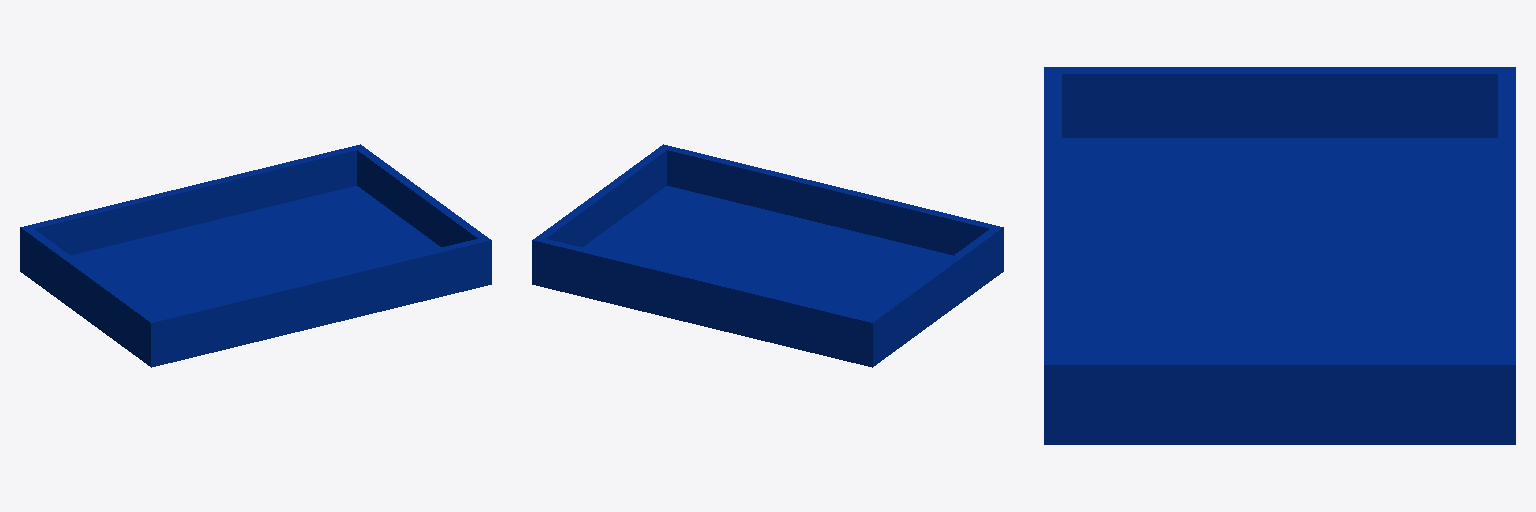
URDF robot description (pallet):
<?xml version='1.0' encoding='utf-8'?>
<!--
  Blue plastic pallet, built from box primitives so it can be converted to USD
  with the Isaac Sim URDF importer.

  All units are SI (m, kg).

  Outer envelope : 0.600 (X, length) x 0.400 (Y, breadth) x 0.075 (Z, height)
  Border / wall  : 0.015 wide, 0.075 tall (full height), around the full
                   perimeter, standing on the ground
  Floor plate    : 0.570 x 0.370 x 0.015, closing the BOTTOM of the frame
                   (z 0.000 .. 0.015). Loads sit on it, at z = 0.015 - the
                   "ground clearance of 0.015 inside".
  Inner cavity   : 0.570 x 0.370 x 0.060, open at the top. The pallet is an
                   open-topped box: closed underneath, walls all round.

  Frame convention: link origin is at the centre of the footprint, on the
  ground plane (z = 0 is the underside of the pallet).
-->
<robot name="pallet">

  <material name="pallet_blue">
    <color rgba="0.04 0.24 0.62 1.0" />
  </material>

  <link name="pallet_base_link">

    <!-- 5 kg plastic pallet (935 kg/m^3 over the solid volume of deck + border,
         i.e. HDPE). Inertia integrated over those five boxes about the CoM,
         which the floor plate pulls down to z = 0.01975. -->
    <inertial>
      <origin xyz="0 0 0.01975" rpy="0 0 0" />
      <mass value="5.0" />
      <inertia ixx="0.0914" ixy="0.0" ixz="0.0"
               iyy="0.1868" iyz="0.0"
               izz="0.2740" />
    </inertial>

    <!-- ==== floor plate (z: 0.000 .. 0.015), closes the bottom, load face ==== -->
    <visual name="pallet_deck_visual">
      <origin xyz="0 0 0.0075" rpy="0 0 0" />
      <geometry>
        <box size="0.570 0.370 0.015" />
      </geometry>
      <material name="pallet_blue" />
    </visual>
    <collision name="pallet_deck_collision">
      <origin xyz="0 0 0.0075" rpy="0 0 0" />
      <geometry>
        <box size="0.570 0.370 0.015" />
      </geometry>
    </collision>

    <!-- ========= border +X (z: 0.000 .. 0.075, full breadth) ========= -->
    <visual name="pallet_wall_xpos_visual">
      <origin xyz="0.2925 0 0.0375" rpy="0 0 0" />
      <geometry>
        <box size="0.015 0.400 0.075" />
      </geometry>
      <material name="pallet_blue" />
    </visual>
    <collision name="pallet_wall_xpos_collision">
      <origin xyz="0.2925 0 0.0375" rpy="0 0 0" />
      <geometry>
        <box size="0.015 0.400 0.075" />
      </geometry>
    </collision>

    <!-- ===================== wall -X ===================== -->
    <visual name="pallet_wall_xneg_visual">
      <origin xyz="-0.2925 0 0.0375" rpy="0 0 0" />
      <geometry>
        <box size="0.015 0.400 0.075" />
      </geometry>
      <material name="pallet_blue" />
    </visual>
    <collision name="pallet_wall_xneg_collision">
      <origin xyz="-0.2925 0 0.0375" rpy="0 0 0" />
      <geometry>
        <box size="0.015 0.400 0.075" />
      </geometry>
    </collision>

    <!-- ====== border +Y (fits between the two X borders: 0.570) ====== -->
    <visual name="pallet_wall_ypos_visual">
      <origin xyz="0 0.1925 0.0375" rpy="0 0 0" />
      <geometry>
        <box size="0.570 0.015 0.075" />
      </geometry>
      <material name="pallet_blue" />
    </visual>
    <collision name="pallet_wall_ypos_collision">
      <origin xyz="0 0.1925 0.0375" rpy="0 0 0" />
      <geometry>
        <box size="0.570 0.015 0.075" />
      </geometry>
    </collision>

    <!-- ===================== wall -Y ===================== -->
    <visual name="pallet_wall_yneg_visual">
      <origin xyz="0 -0.1925 0.0375" rpy="0 0 0" />
      <geometry>
        <box size="0.570 0.015 0.075" />
      </geometry>
      <material name="pallet_blue" />
    </visual>
    <collision name="pallet_wall_yneg_collision">
      <origin xyz="0 -0.1925 0.0375" rpy="0 0 0" />
      <geometry>
        <box size="0.570 0.015 0.075" />
      </geometry>
    </collision>

  </link>

</robot>

--- Render facts (derived) ---
The picture shows the robot from 3 angles, left to right: view 1: azimuth 30°, elevation 25°; view 2: azimuth 150°, elevation 25°; view 3: azimuth 270°, elevation 25°; orthographic projection.
Robot: pallet — 1 links, 0 joints (none); root link pallet_base_link; default pose: all joints at 0.
Visible links, largest first — view 1: pallet_base_link; view 2: pallet_base_link; view 3: pallet_base_link.
Boxes of the visible links, x1=… form: pallet_base_link: x1=20, y1=144, x2=491, y2=367; pallet_base_link: x1=532, y1=144, x2=1003, y2=367; pallet_base_link: x1=1044, y1=67, x2=1515, y2=444.
Size in the robot's own frame: 0.6 by 0.4 by 0.075 metres.
Geometry: primitives only (box / cylinder / sphere), no mesh files.
